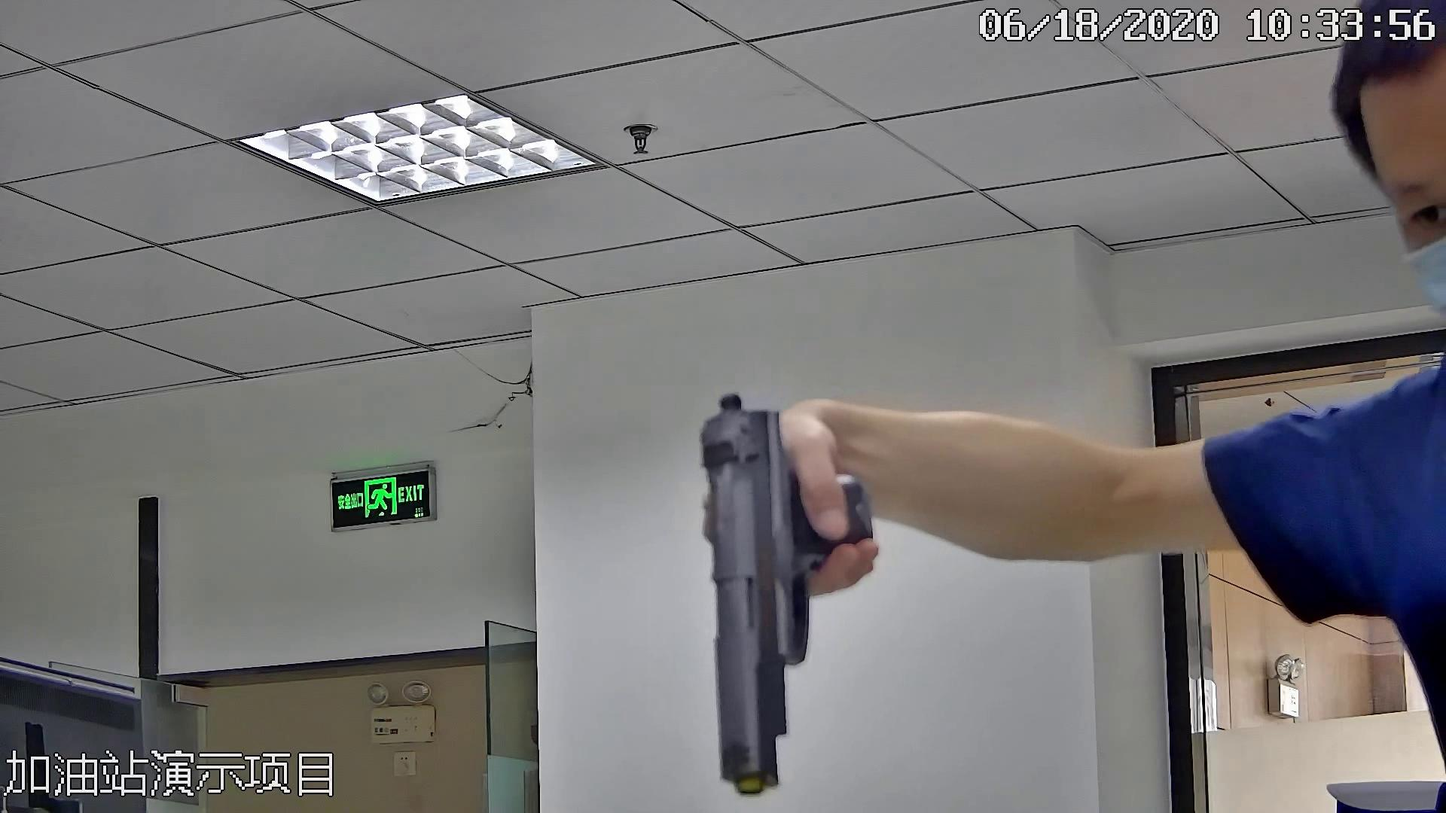gun: (659, 391, 902, 786)
